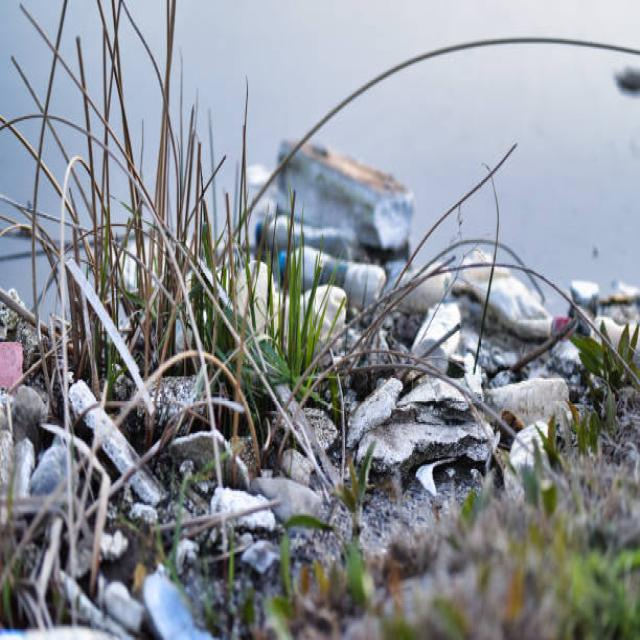plastic: (224, 201, 422, 293)
